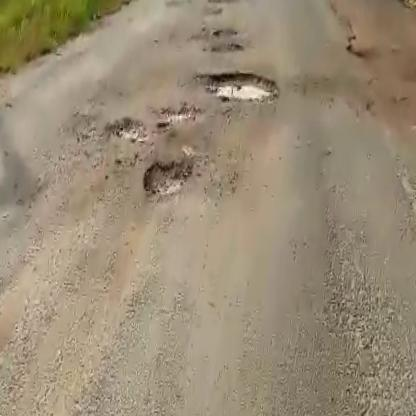pothole: (198, 62, 282, 105), (140, 151, 195, 206), (96, 107, 151, 146), (152, 99, 207, 137), (202, 32, 249, 56)
